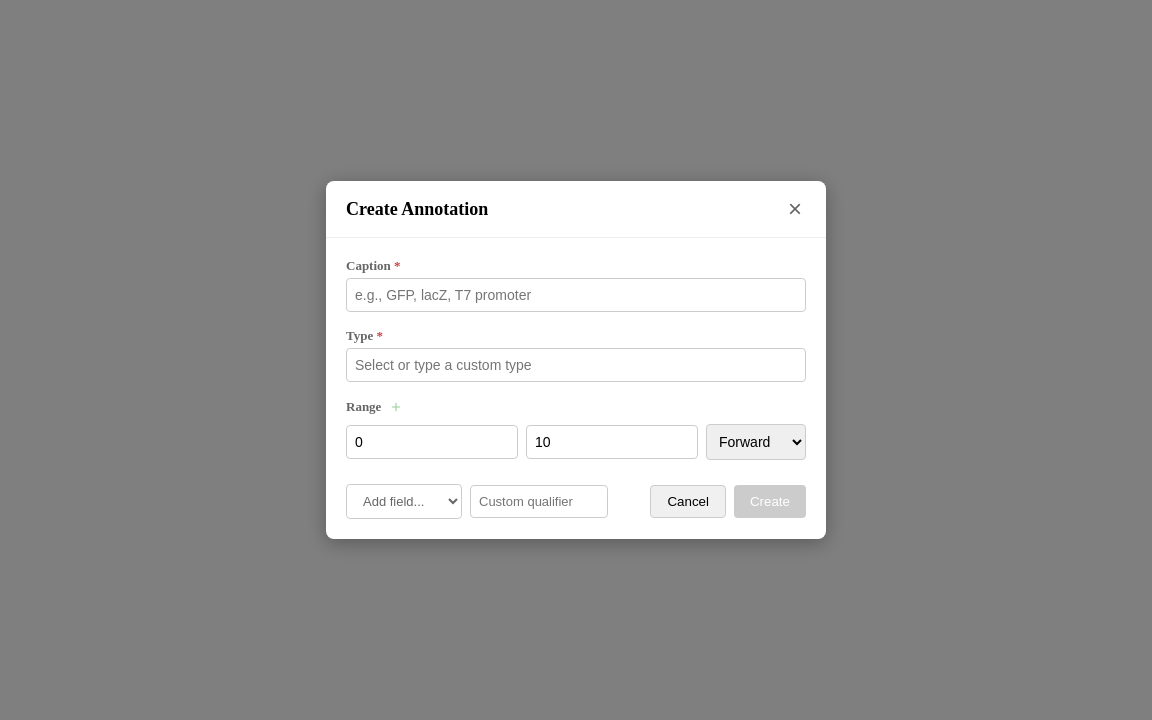
AnnotationModal › optional fields › adds custom qualifier when button clicked
Type "my_qualifier" into the field with class "custom-field-input" at (539,502), box [470,485,608,518]
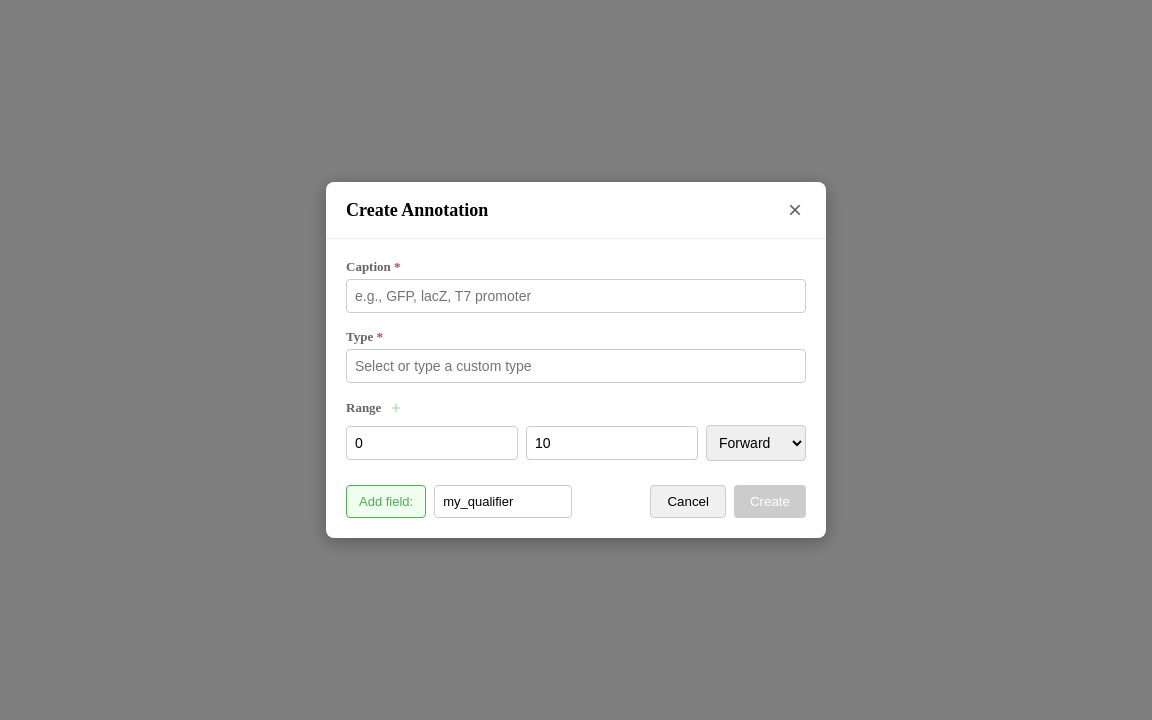
Click the button with class "add-field-button" at (386,502), box [346,485,426,518]
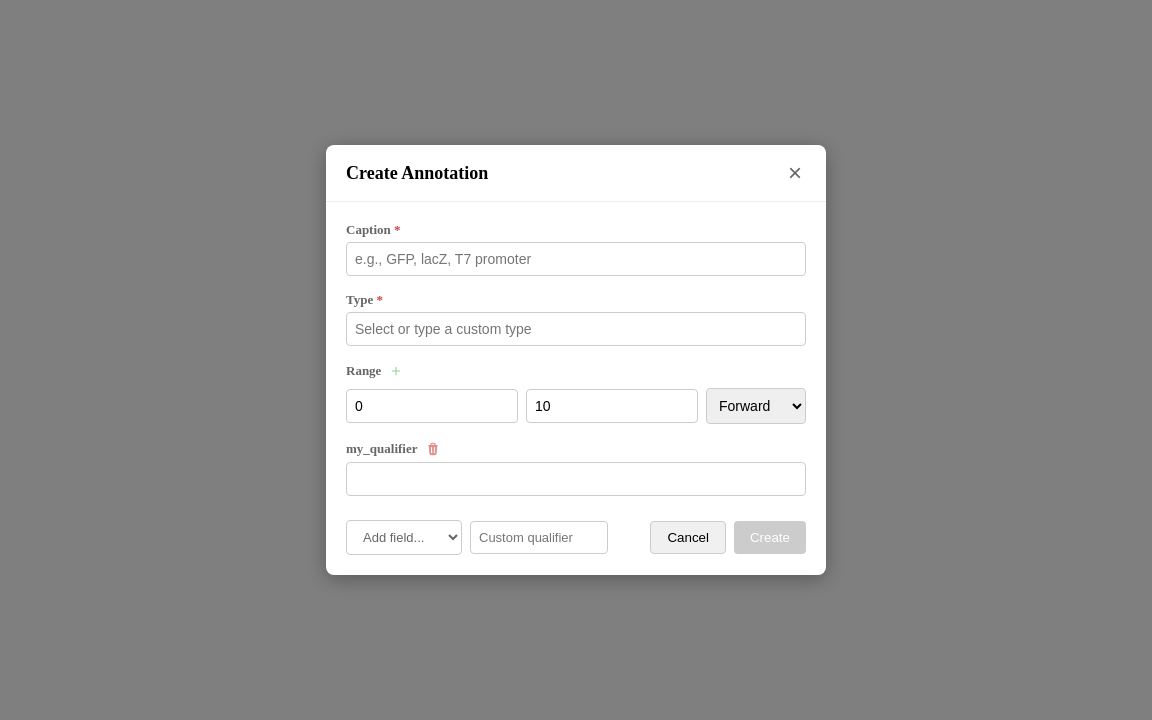
expect the field with id "annotation-attr-my_qualifier" is shown: met, box [346,462,806,496]
